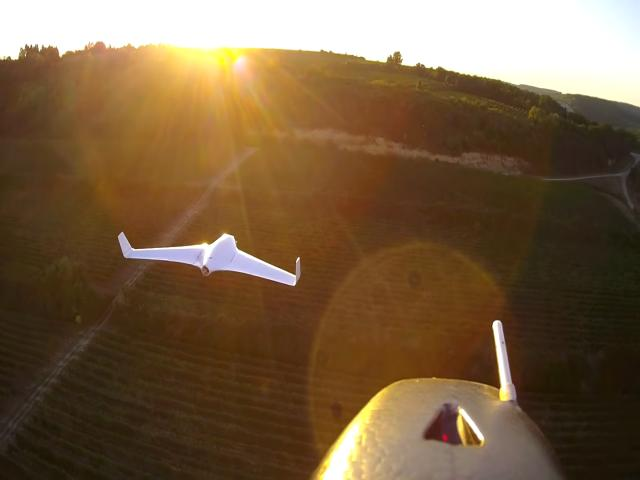plane: (118, 229, 301, 286)
